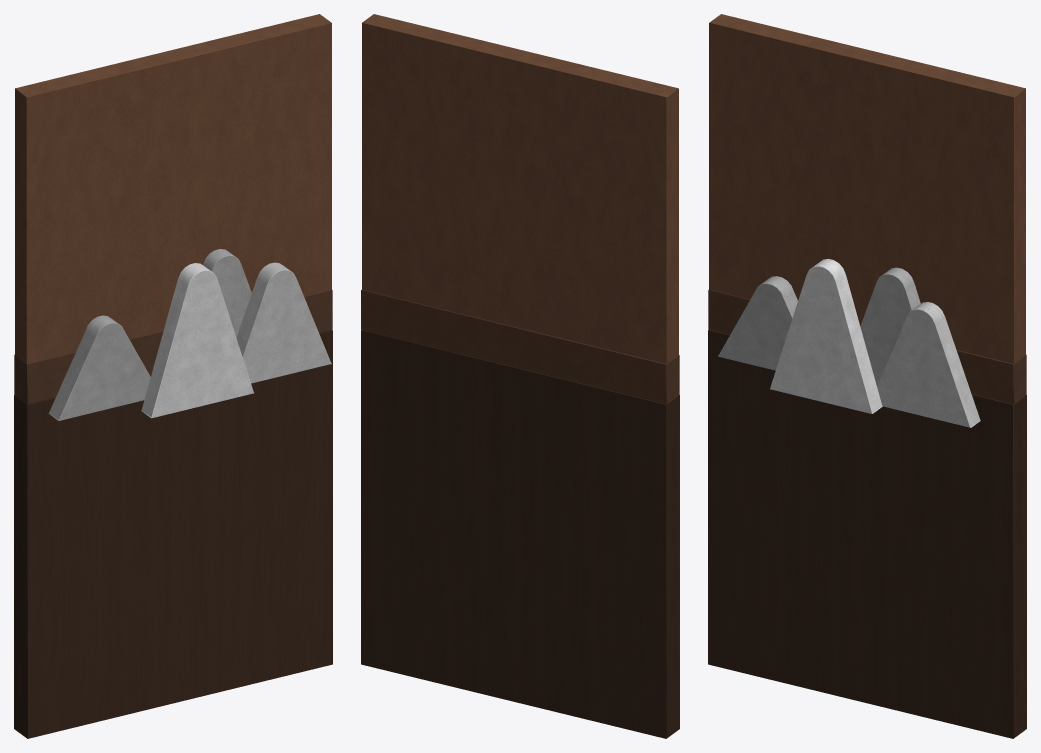
The model's file is ravijn_level3.glb.
The picture shows the model from 3 angles, left to right: view 1: azimuth 30°, elevation 25°; view 2: azimuth 150°, elevation 25°; view 3: azimuth 330°, elevation 25°; orthographic projection.
Parts seen in each view (by area): view 1: ravijn_L3_01; view 2: ravijn_L3_01; view 3: ravijn_L3_01.
Part boxes in pixels (<box>): ravijn_L3_01: <box>14,14,332,738</box>; ravijn_L3_01: <box>361,14,679,738</box>; ravijn_L3_01: <box>708,14,1026,738</box>.
Size of the model in its own units: 3.59 by 7.21 by 0.91.
6 materials, 6 textured.
